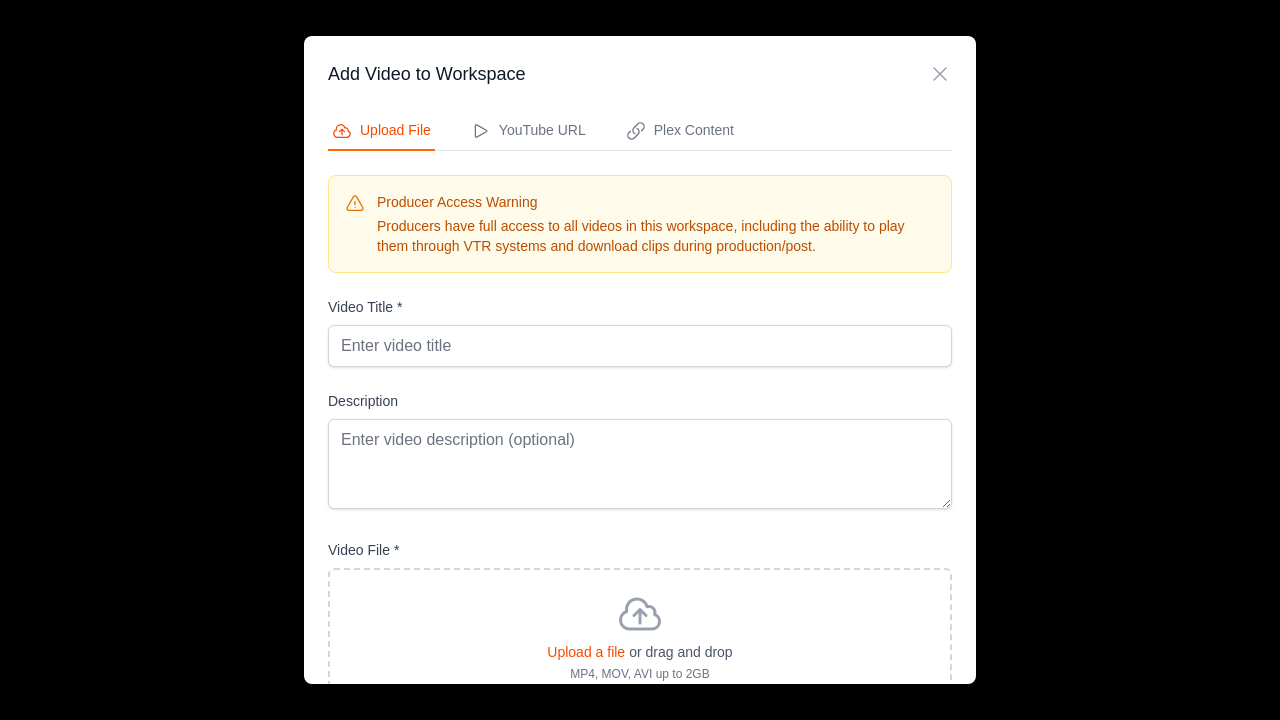
Test: AddVideoModal › should show loading state while fetching metadata
Switch to YouTube tab
Click the button "YouTube URL": (528, 132) x1=467 y1=112 x2=590 y2=151
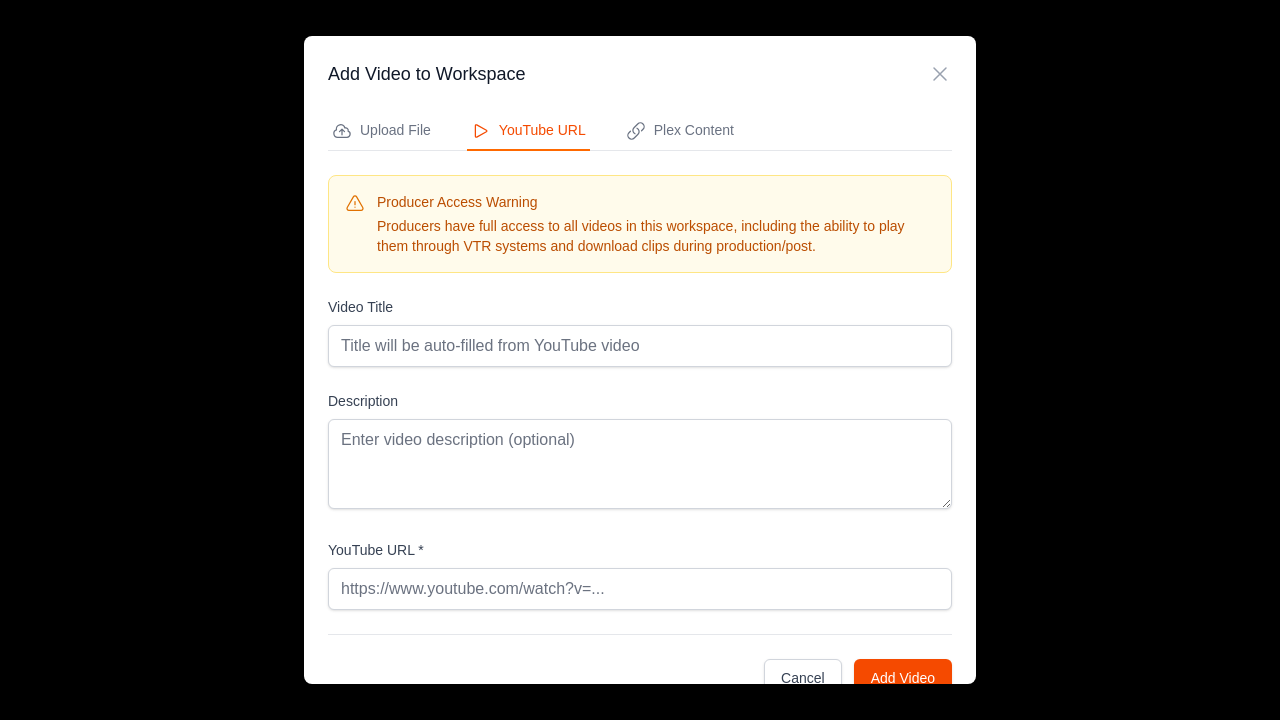
Enter YouTube URL
In the field with placeholder "https://www.youtube.com/watch?v=...": (640, 589) x1=328 y1=568 x2=952 y2=610, type "https://www.youtube.com/watch?v=test"
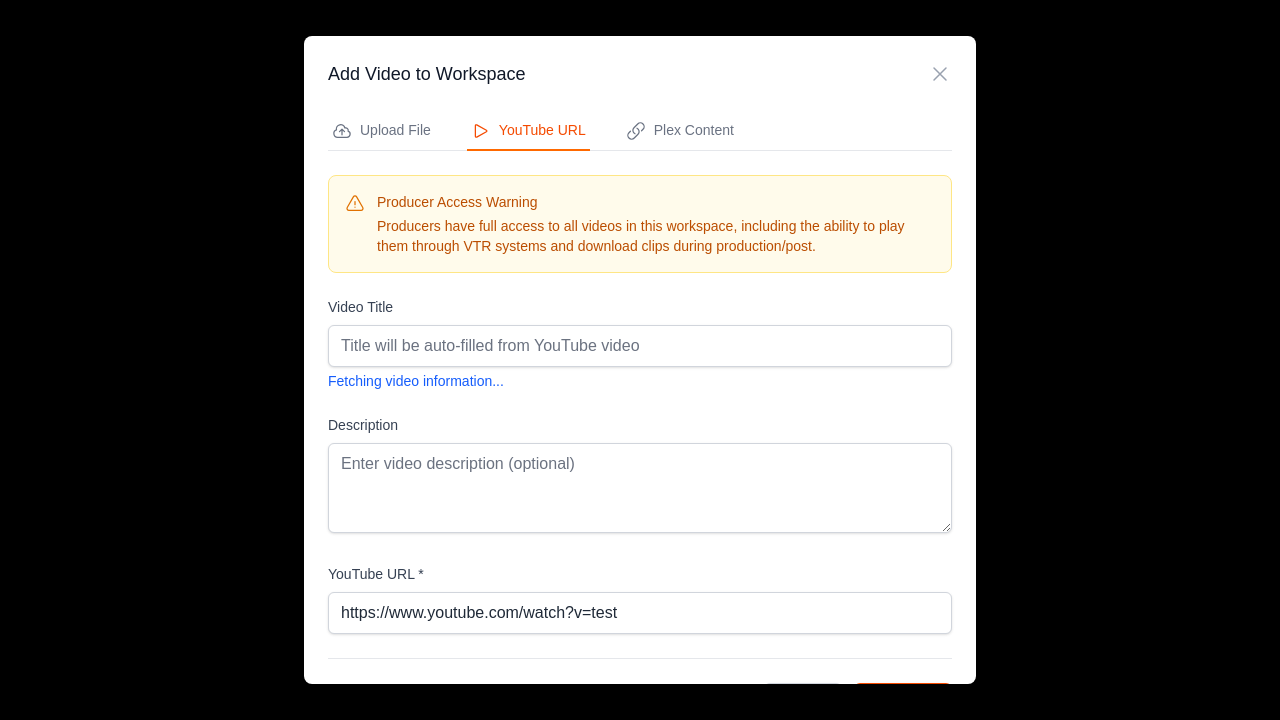
Expected: the text "Fetching video information..." is shown, x1=328 y1=373 x2=504 y2=389
